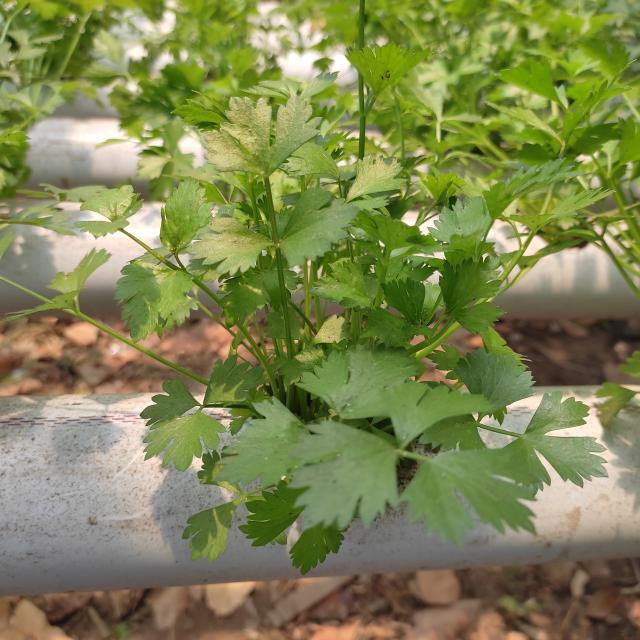Wet Waste: (92, 81, 555, 547)
